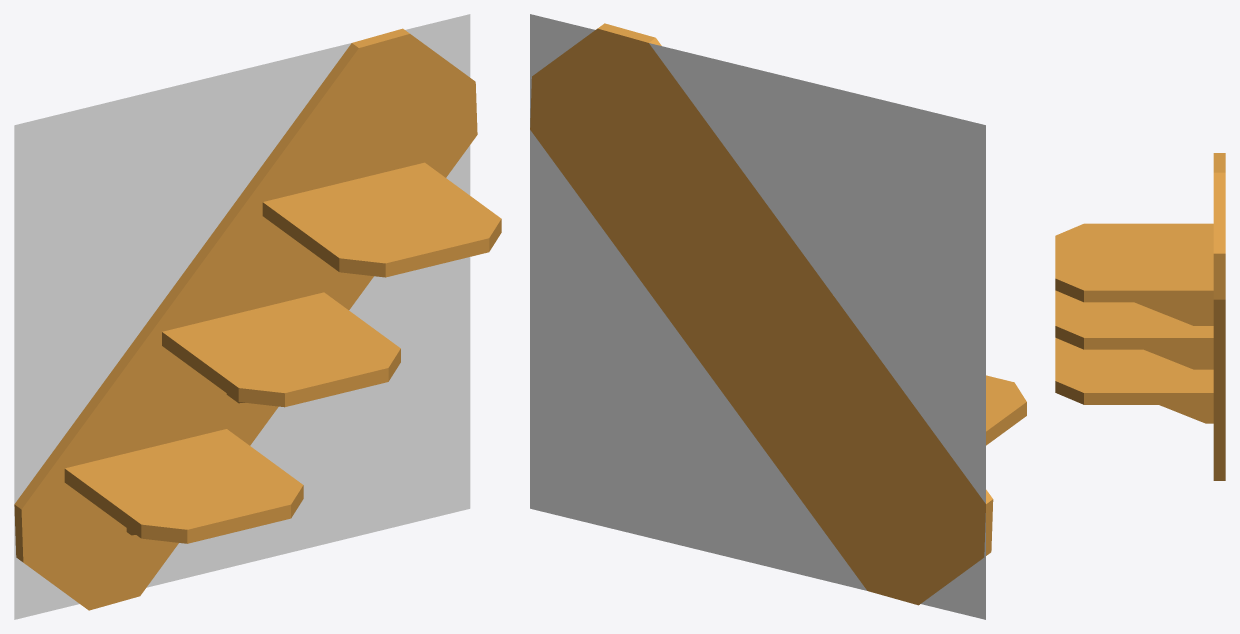
File: 三层跳台-右.glb
The picture shows the model from 3 angles, left to right: view 1: azimuth 30°, elevation 25°; view 2: azimuth 150°, elevation 25°; view 3: azimuth 270°, elevation 25°; orthographic projection. The views are drawn at different scales.
Parts seen in each view (by area): view 1: 三层跳台-右, 立方体.002, 平面.015, 平面.009, 平面.013; view 2: 三层跳台-右, 立方体.002, 平面.009; view 3: 平面.015, 平面.009, 平面.013, 立方体.002, 平面.024, 平面.022, 平面.023.
Part boxes in pixels (left/top/right/bottom): 三层跳台-右: left=14, top=14, right=470, bottom=619; 立方体.002: left=14, top=28, right=477, bottom=610; 平面.015: left=262, top=162, right=501, bottom=277; 平面.009: left=64, top=429, right=303, bottom=543; 平面.013: left=162, top=292, right=400, bottom=407; 三层跳台-右: left=530, top=14, right=985, bottom=619; 立方体.002: left=530, top=23, right=993, bottom=605; 平面.009: left=986, top=375, right=1026, bottom=445; 平面.015: left=1055, top=223, right=1213, bottom=302; 平面.009: left=1055, top=338, right=1213, bottom=404; 平面.013: left=1055, top=290, right=1213, bottom=349; 立方体.002: left=1213, top=153, right=1225, bottom=480; 平面.024: left=1135, top=302, right=1213, bottom=325; 平面.022: left=1144, top=349, right=1213, bottom=369; 平面.023: left=1159, top=405, right=1213, bottom=423.
Bounding box in the file's own units: 0.5625 × 0.5876 × 0.2152.
